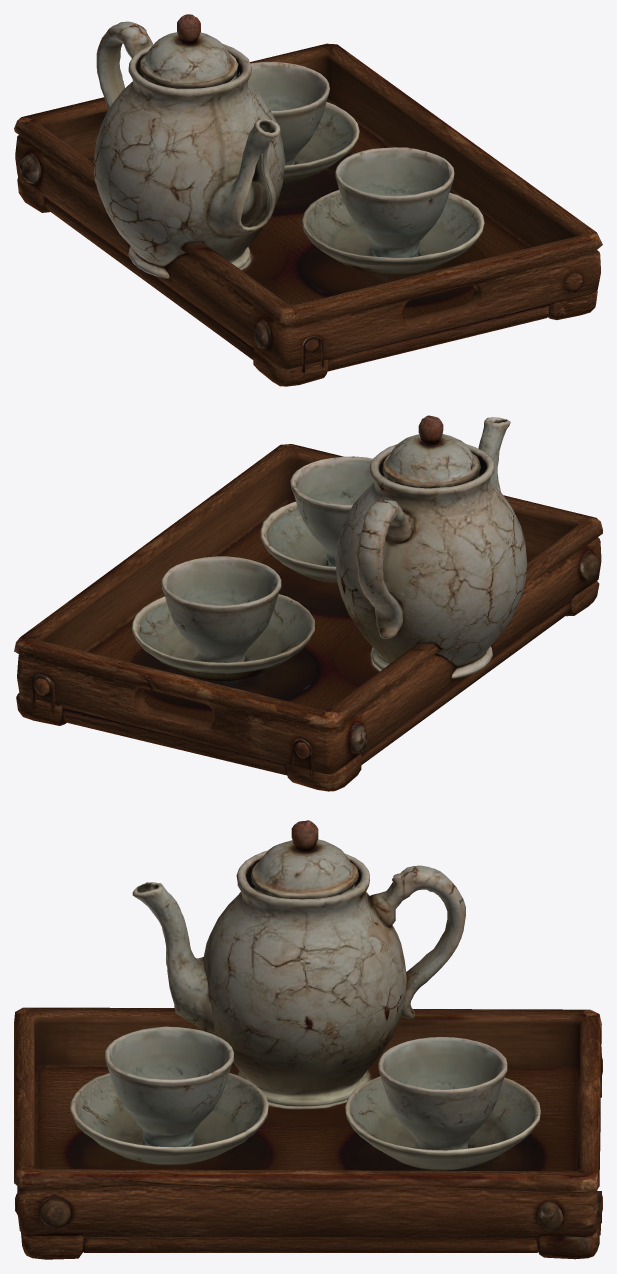
The model's file is prop-tea-tray-v01.glb.
The picture shows the model from 3 angles, top to bottom: view 1: azimuth 30°, elevation 25°; view 2: azimuth 150°, elevation 25°; view 3: azimuth 270°, elevation 25°; orthographic projection. The views are drawn at different scales.
Parts seen in each view (by area): view 1: tripo_node_45c1cf64-7a41-4d91-b1a1-f17bc7882008; view 2: tripo_node_45c1cf64-7a41-4d91-b1a1-f17bc7882008; view 3: tripo_node_45c1cf64-7a41-4d91-b1a1-f17bc7882008.
Part boxes in pixels (bbox=[...]): tripo_node_45c1cf64-7a41-4d91-b1a1-f17bc7882008: bbox=[14, 14, 602, 386]; tripo_node_45c1cf64-7a41-4d91-b1a1-f17bc7882008: bbox=[14, 415, 602, 791]; tripo_node_45c1cf64-7a41-4d91-b1a1-f17bc7882008: bbox=[14, 820, 602, 1259].
Size of the model in its own units: 0.1931 by 0.133 by 0.2436.
Materials: 1 (1 with a texture image).
